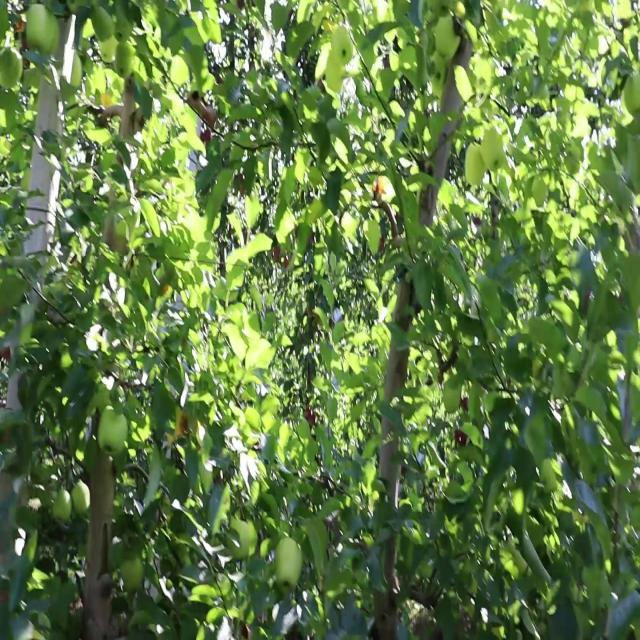apple: (274, 536, 304, 591), (98, 406, 128, 456), (230, 513, 258, 561), (26, 3, 52, 53), (436, 12, 461, 59), (482, 126, 506, 170), (0, 46, 22, 88), (464, 142, 484, 188), (623, 69, 640, 116), (331, 27, 354, 60), (325, 55, 343, 93), (52, 490, 72, 524), (116, 41, 134, 77), (73, 482, 91, 516), (443, 382, 461, 412), (532, 178, 547, 208), (99, 38, 115, 63), (114, 19, 132, 40)
